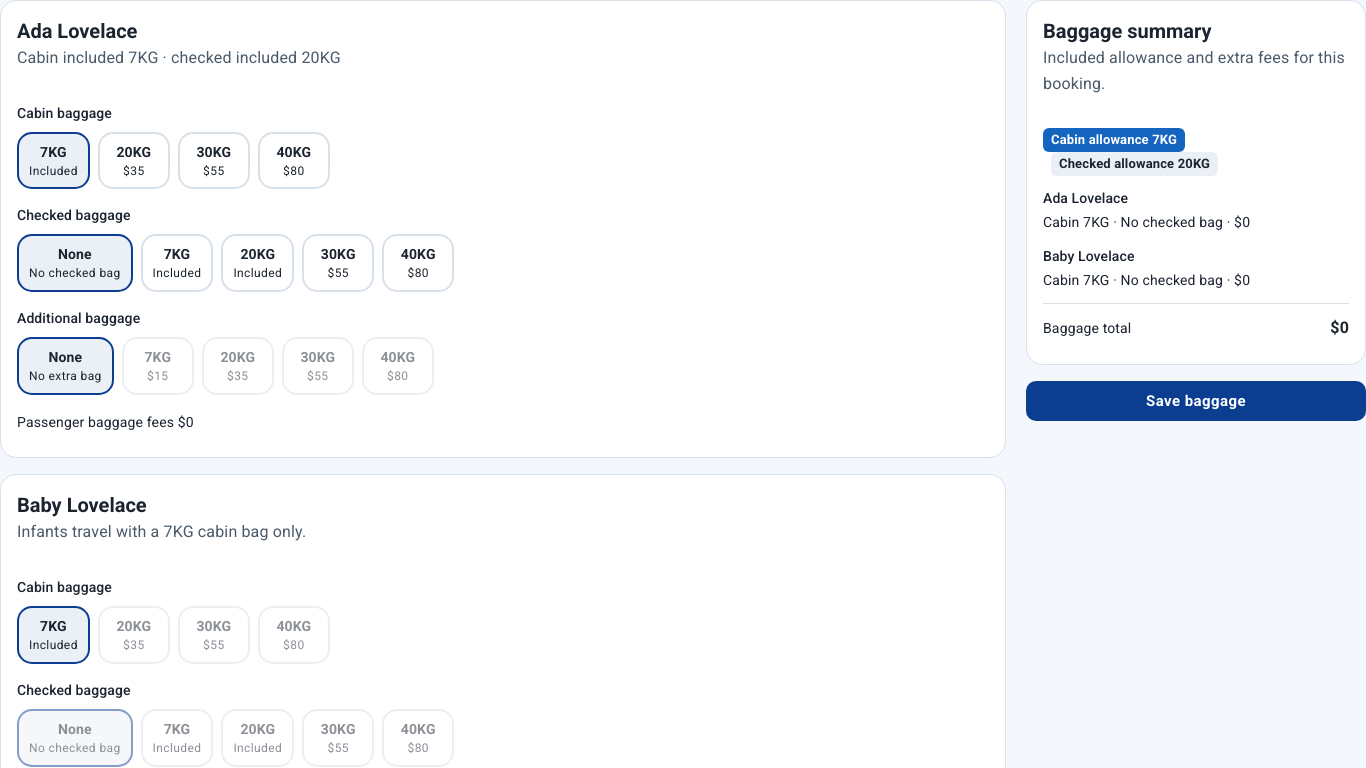
Test: BaggageSelectionPanel › renders passengers and saves baggage choices
Expected: the text "Ada Lovelace" is shown, [17,19,137,43]
Expected: the text "Baby Lovelace" is shown, [17,493,147,517]
Click the button "Save baggage": (1196, 401) [1026,381,1365,421]
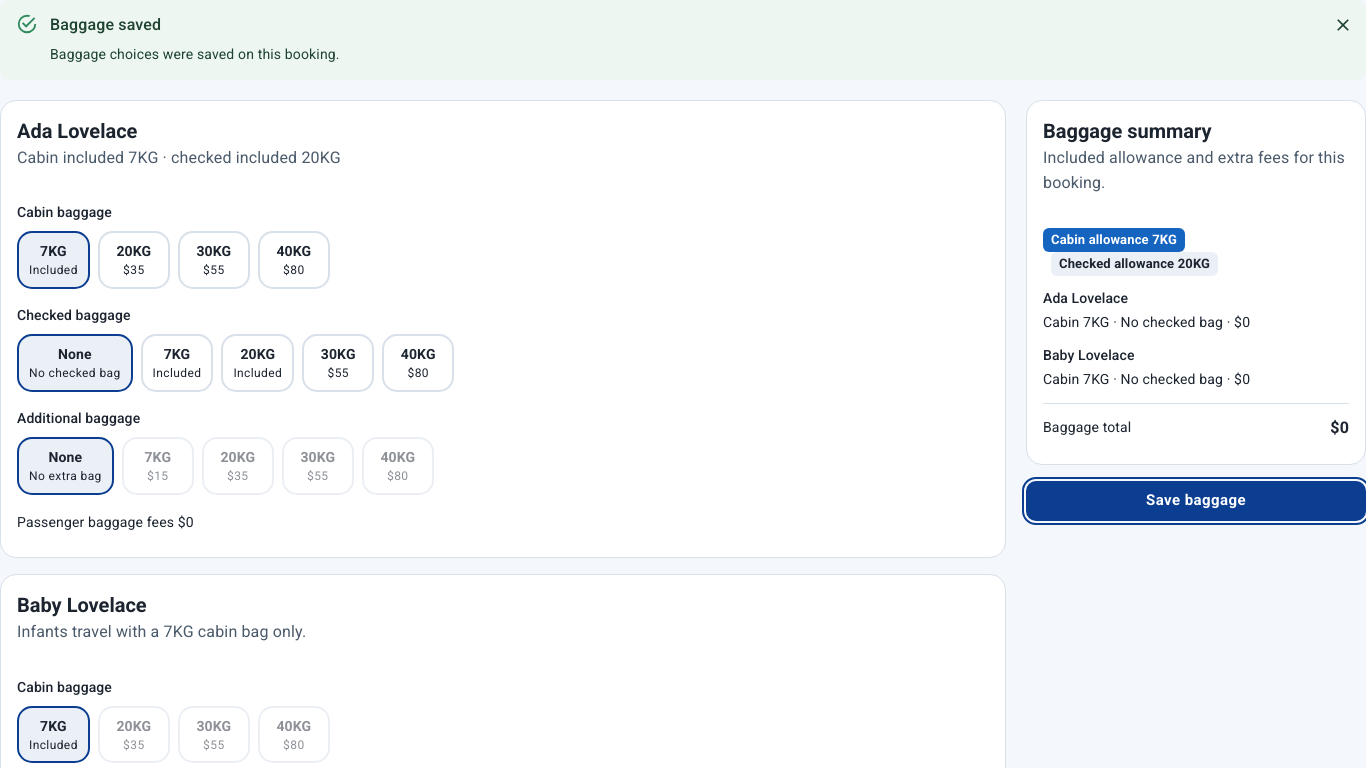
Result: the text "Baggage saved" is shown at [50,15,161,34]
